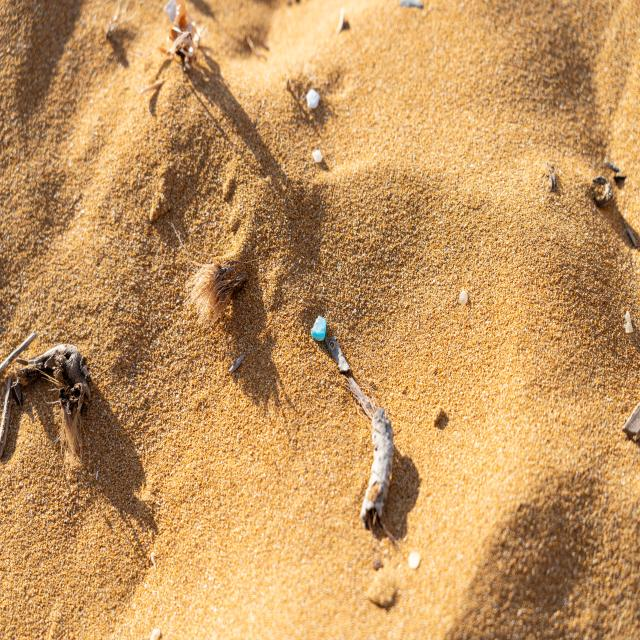Other plastic: (310, 313, 329, 349)
